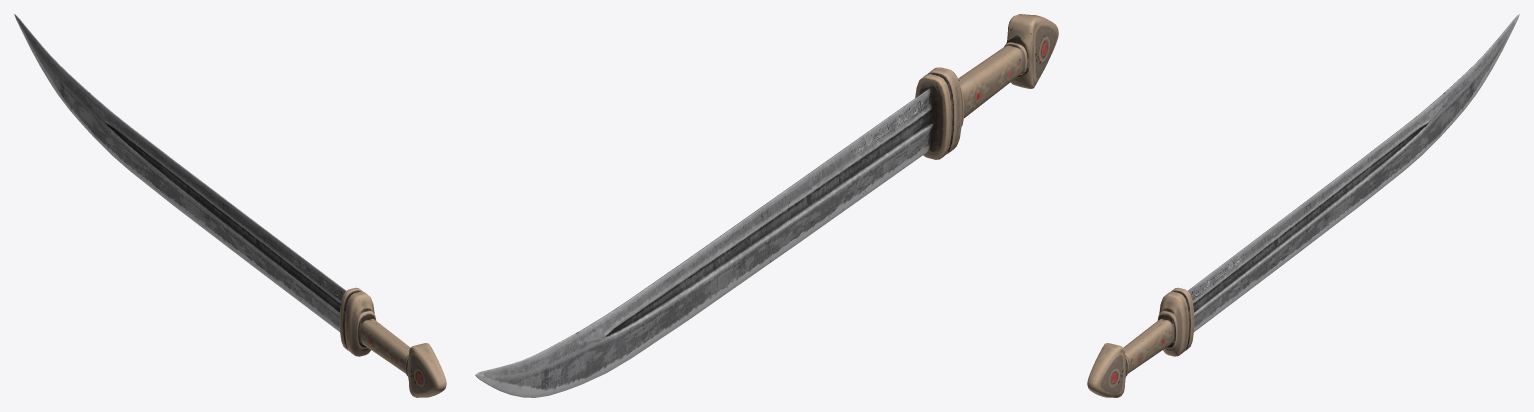
Rendered from Arab_Swords_04.fbx.
3 renders of one model, left to right at view 1: azimuth 30°, elevation 25°; view 2: azimuth 150°, elevation 25°; view 3: azimuth 330°, elevation 25°, orthographic. The views are drawn at different scales.
Parts seen in each view (by area): view 1: Arab_Swords_04_LOD0; view 2: Arab_Swords_04_LOD0; view 3: Arab_Swords_04_LOD0.
Part boxes in pixels (<box>): Arab_Swords_04_LOD0: <box>14,14,446,397</box>; Arab_Swords_04_LOD0: <box>475,14,1058,397</box>; Arab_Swords_04_LOD0: <box>1087,14,1519,397</box>.
Size of what is drawn, in the model's own units: 2.14 by 7.04 by 62.49.
